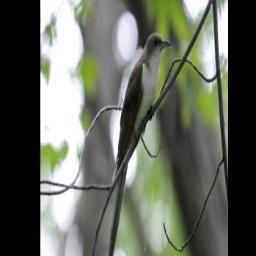Cuckoo: (105, 29, 171, 256)
